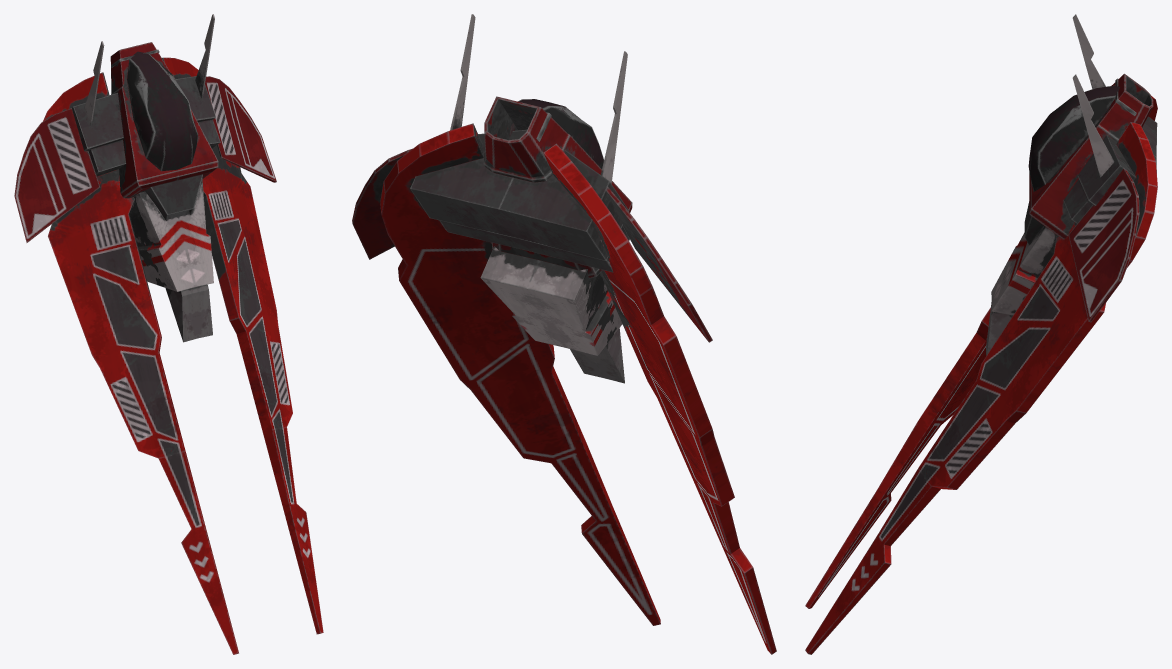
The model's file is Dispatcher.fbx.
3 renders of one model, left to right at view 1: azimuth 30°, elevation 25°; view 2: azimuth 150°, elevation 25°; view 3: azimuth 270°, elevation 25°, orthographic. The views are drawn at different scales.
Parts seen in each view (by area): view 1: Dispatcher; view 2: Dispatcher; view 3: Dispatcher.
Part boxes in pixels (x1,y1,x2,y2): Dispatcher: (14, 14, 323, 654); Dispatcher: (352, 14, 776, 654); Dispatcher: (805, 14, 1157, 654).
Bounding box in the file's own units: 2037 × 2241 × 4116.
